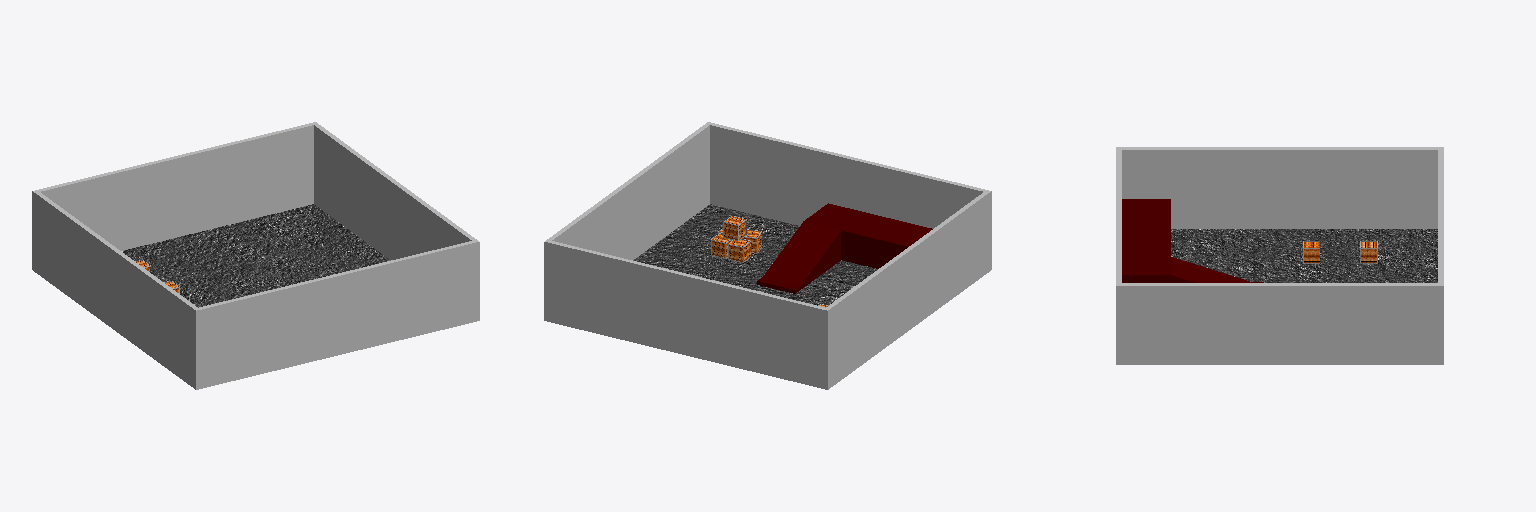
The picture shows the model from 3 angles: view 1: azimuth 30°, elevation 25°; view 2: azimuth 150°, elevation 25°; view 3: azimuth 270°, elevation 25°; orthographic projection.
Parts seen in each view (by area): view 1: Room.obj; view 2: Room.obj; view 3: Room.obj.
Part boxes in pixels (bbox=[...]): Room.obj: bbox=[32, 122, 479, 389]; Room.obj: bbox=[544, 122, 991, 389]; Room.obj: bbox=[1116, 147, 1443, 364].
Size of the model in its own units: 150 by 40.1 by 150.
Materials: 5 (2 with a texture image).